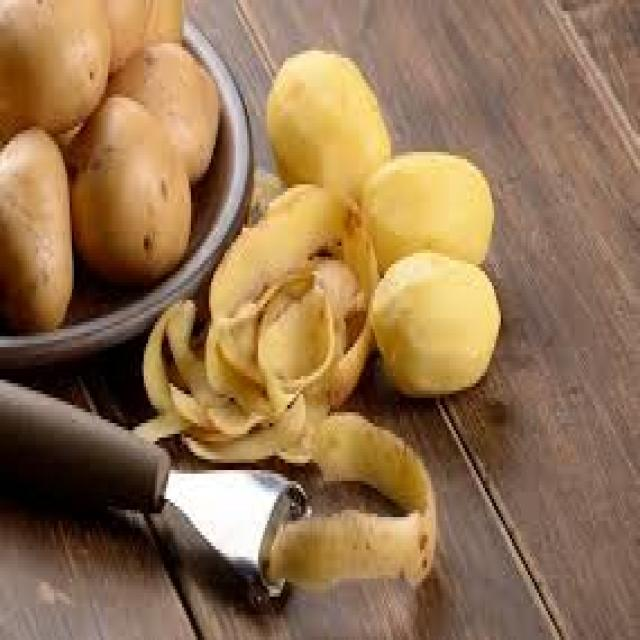Organik: (153, 193, 389, 452), (295, 418, 447, 588), (78, 74, 186, 267), (365, 252, 504, 396), (270, 44, 384, 194), (0, 123, 83, 315), (362, 150, 502, 260), (0, 0, 117, 126), (132, 27, 218, 160)
